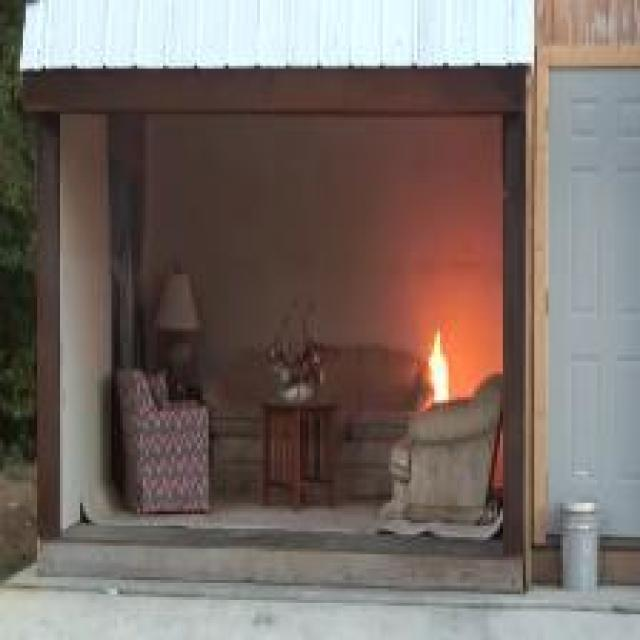fire: (412, 326, 461, 408)
